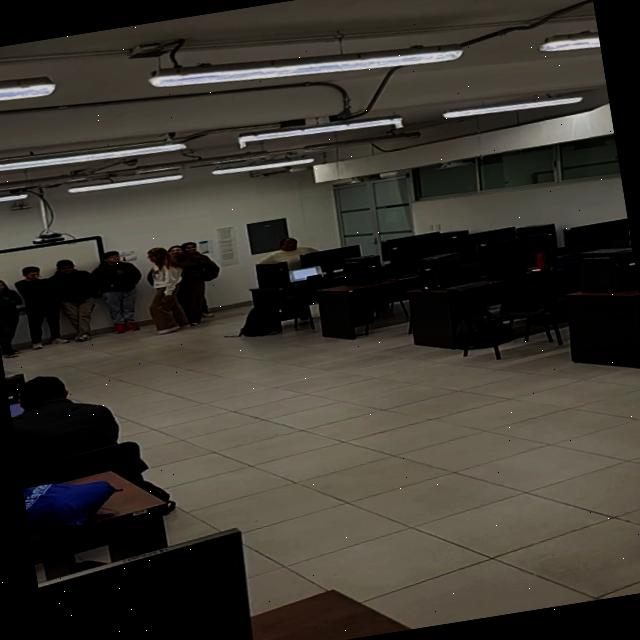Persona: (90, 238, 147, 340), (140, 243, 186, 335), (54, 251, 96, 343), (165, 241, 212, 316), (18, 265, 59, 349), (0, 271, 26, 358), (254, 233, 316, 268)
